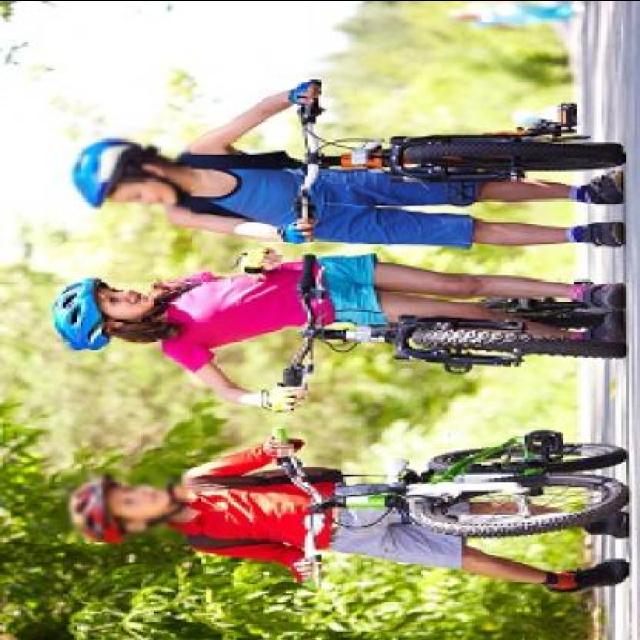With Helmet: (66, 124, 192, 222), (60, 468, 189, 542), (38, 272, 154, 350)
